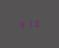eight: (18, 20, 24, 28)
seven: (26, 20, 32, 27)
zero: (33, 19, 39, 27)
